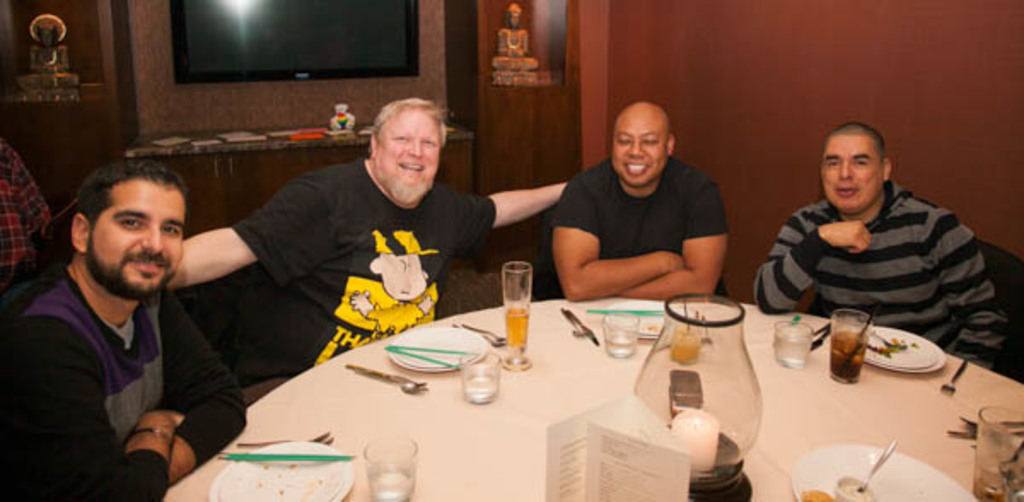Beer: (503, 302, 527, 355)
